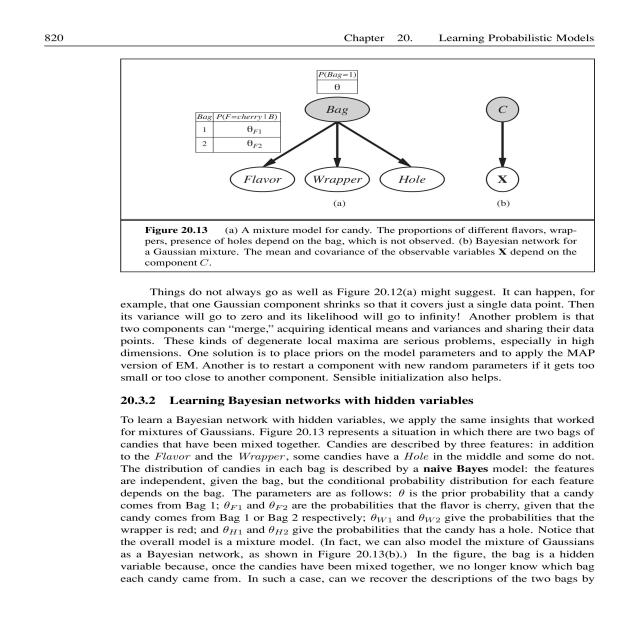diagram: (96, 52, 638, 279)
